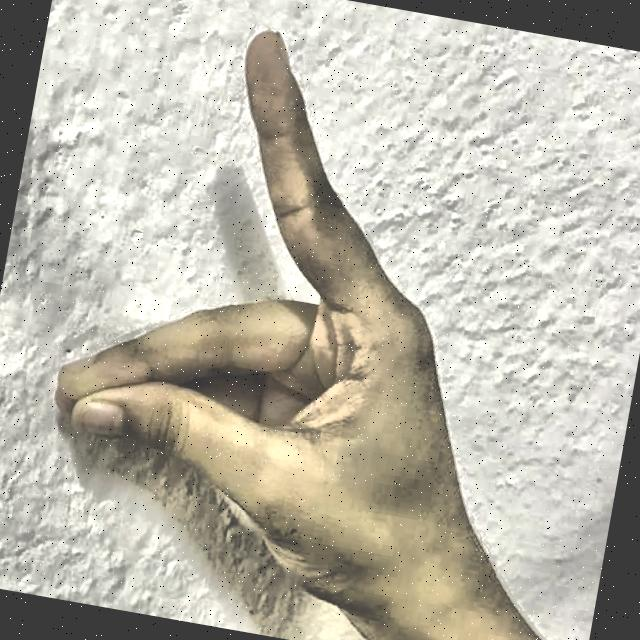Dha: (1, 0, 585, 640)
